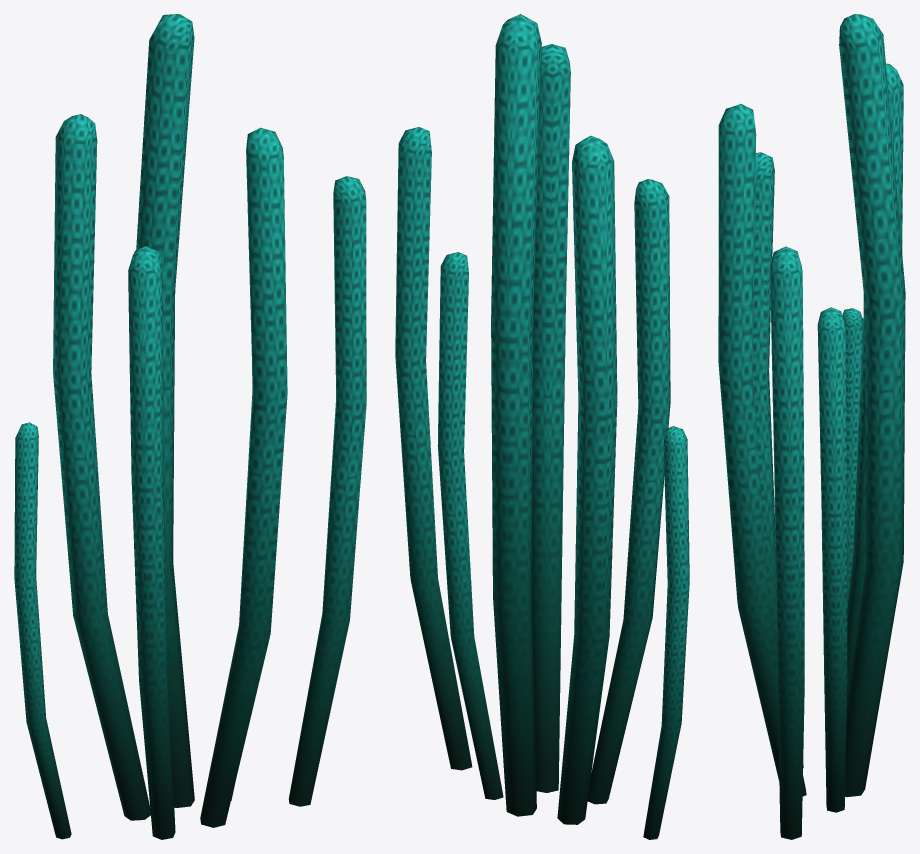
The model's file is Coral_38.FBX.
3 views of the same model, side by side, from view 1: azimuth 30°, elevation 25°; view 2: azimuth 150°, elevation 25°; view 3: azimuth 270°, elevation 25° (orthographic). The views are drawn at different scales.
Parts seen in each view (by area): view 1: Coral_38; view 2: Coral_38; view 3: Coral_38.
Part boxes in pixels (bbox=[...]): Coral_38: bbox=[14, 14, 366, 839]; Coral_38: bbox=[395, 14, 689, 839]; Coral_38: bbox=[718, 14, 905, 839].
Bounding box in the file's own units: 65.52 × 154 × 33.65.
